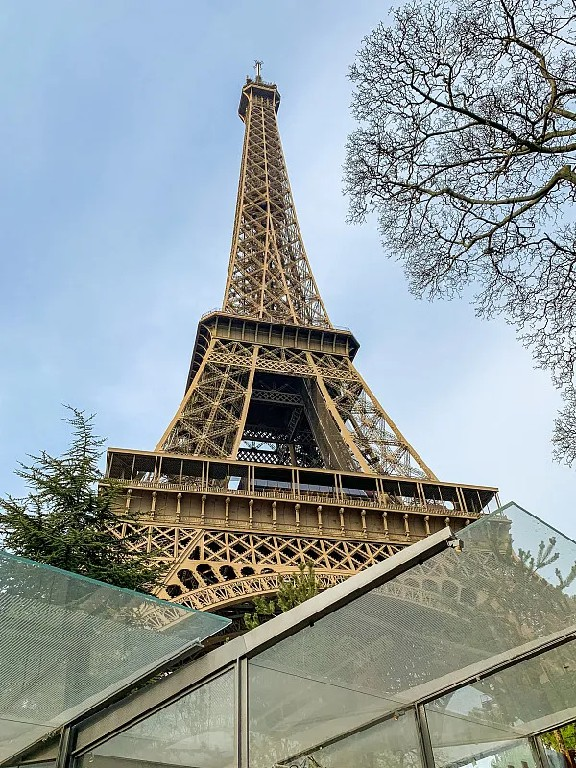Eiffel: (91, 59, 513, 634)
